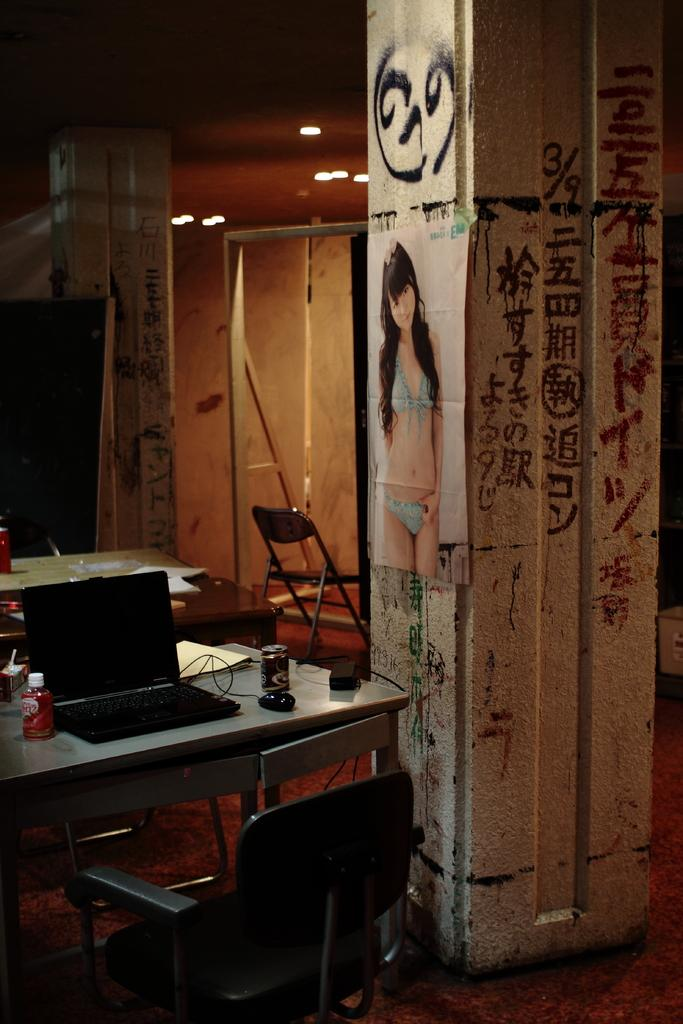Laptop: (12, 564, 235, 746)
